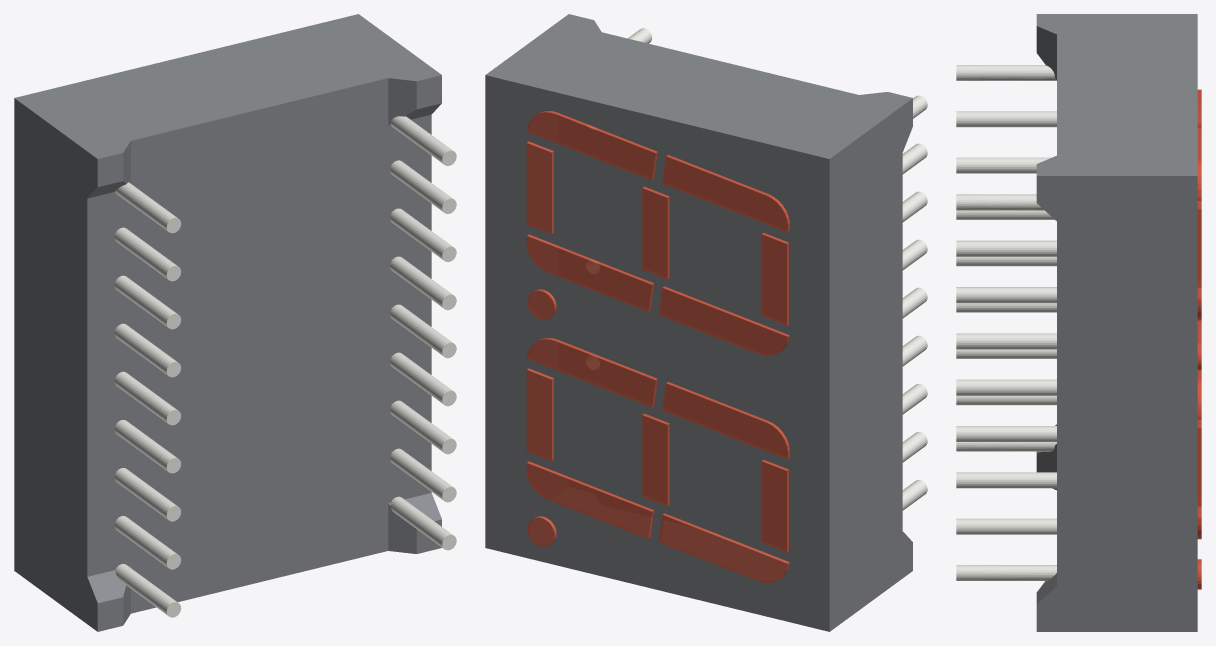
The model's file is DA56-11SURKWA.glb.
3 renders of one model, left to right at view 1: azimuth 30°, elevation 25°; view 2: azimuth 150°, elevation 25°; view 3: azimuth 270°, elevation 25°, orthographic. The views are drawn at different scales.
Visible parts, largest first — view 1: Shape_IndexedFaceSet.010, Shape_IndexedFaceSet.023, Shape_IndexedFaceSet.007, Shape_IndexedFaceSet.027, Shape_IndexedFaceSet.008, Shape_IndexedFaceSet.028, Shape_IndexedFaceSet.004, Shape_IndexedFaceSet.016, Shape_IndexedFaceSet.123, Shape_IndexedFaceSet.017, Shape_IndexedFaceSet.020, Shape_IndexedFaceSet.118 (+19 smaller); view 2: Shape_IndexedFaceSet.024, Shape_IndexedFaceSet.023, Shape_IndexedFaceSet.007, Shape_IndexedFaceSet.132, Shape_IndexedFaceSet.136, Shape_IndexedFaceSet.126, Shape_IndexedFaceSet.139, Shape_IndexedFaceSet.129, Shape_IndexedFaceSet.131, Shape_IndexedFaceSet.141, Shape_IndexedFaceSet.134, Shape_IndexedFaceSet.127 (+7 smaller); view 3: Shape_IndexedFaceSet.009, Shape_IndexedFaceSet.007, Shape_IndexedFaceSet.014, Shape_IndexedFaceSet.015, Shape_IndexedFaceSet.016, Shape_IndexedFaceSet.017, Shape_IndexedFaceSet.018, Shape_IndexedFaceSet.019, Shape_IndexedFaceSet.123, Shape_IndexedFaceSet.020, Shape_IndexedFaceSet.012, Shape_IndexedFaceSet.039 (+12 smaller).
Part boxes in pixels (x1,y1,x2,y2): Shape_IndexedFaceSet.010: (131,125,388,565); Shape_IndexedFaceSet.023: (14,98,97,631); Shape_IndexedFaceSet.007: (15,14,441,158); Shape_IndexedFaceSet.027: (87,192,130,576); Shape_IndexedFaceSet.008: (131,78,388,186); Shape_IndexedFaceSet.028: (131,503,388,613); Shape_IndexedFaceSet.004: (388,114,431,503); Shape_IndexedFaceSet.016: (390,256,452,307); Shape_IndexedFaceSet.123: (114,227,177,279); Shape_IndexedFaceSet.017: (390,304,452,355); Shape_IndexedFaceSet.020: (390,352,453,403); Shape_IndexedFaceSet.118: (114,323,176,375); Shape_IndexedFaceSet.024: (485,75,829,631); Shape_IndexedFaceSet.023: (829,98,912,631); Shape_IndexedFaceSet.007: (486,14,912,158); Shape_IndexedFaceSet.132: (526,339,655,407); Shape_IndexedFaceSet.136: (662,156,787,232); Shape_IndexedFaceSet.126: (662,383,787,459); Shape_IndexedFaceSet.139: (526,236,651,311); Shape_IndexedFaceSet.129: (658,515,787,582); Shape_IndexedFaceSet.131: (526,463,651,538); Shape_IndexedFaceSet.141: (526,112,655,180); Shape_IndexedFaceSet.134: (658,288,787,355); Shape_IndexedFaceSet.127: (642,415,667,506); Shape_IndexedFaceSet.009: (1036,176,1197,631); Shape_IndexedFaceSet.007: (1036,14,1197,175); Shape_IndexedFaceSet.014: (956,287,1056,303); Shape_IndexedFaceSet.015: (956,240,1056,256); Shape_IndexedFaceSet.016: (956,333,1056,349); Shape_IndexedFaceSet.017: (956,379,1056,395); Shape_IndexedFaceSet.018: (956,518,1056,534); Shape_IndexedFaceSet.019: (956,472,1056,488); Shape_IndexedFaceSet.123: (956,111,1056,127); Shape_IndexedFaceSet.020: (956,426,1056,441); Shape_IndexedFaceSet.012: (956,565,1056,580); Shape_IndexedFaceSet.039: (956,65,1056,80).
Size of the model in its own units: 7.5 by 9.84 by 4.8.
